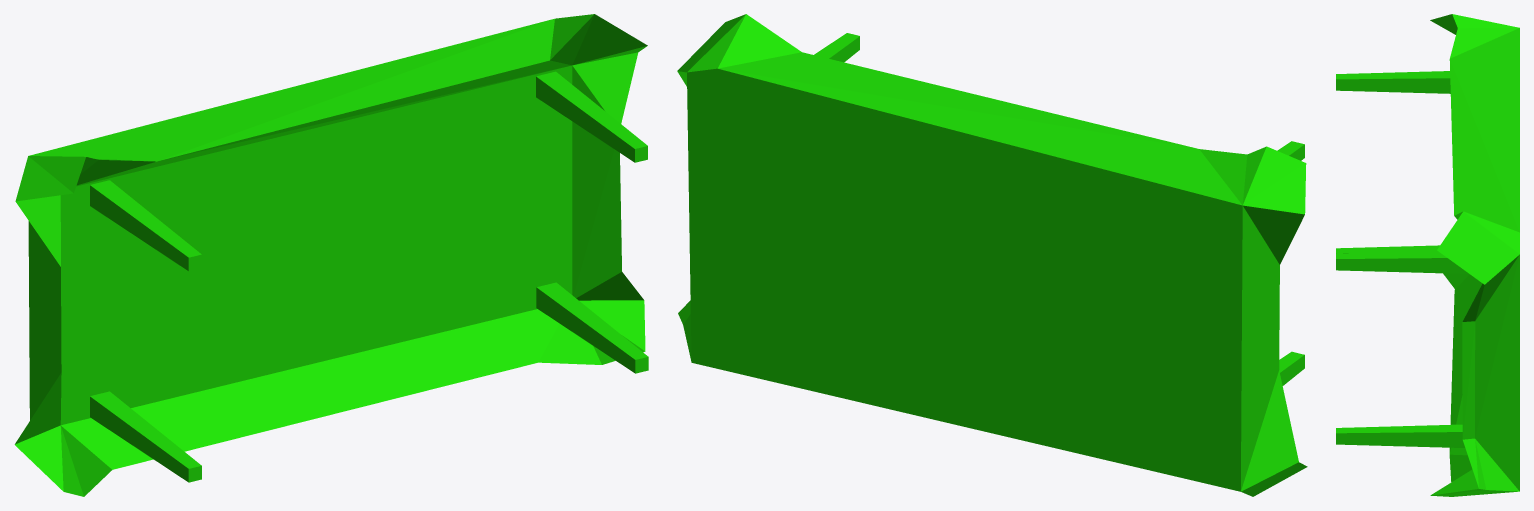
The model's file is SM_Table_01_Collider.fbx.
3 renders of one model, left to right at view 1: azimuth 30°, elevation 25°; view 2: azimuth 150°, elevation 25°; view 3: azimuth 270°, elevation 25°, orthographic. The views are drawn at different scales.
Visible parts, largest first — view 1: SM_Table_01_Collider; view 2: SM_Table_01_Collider; view 3: SM_Table_01_Collider.
Boxes of the visible parts, box(x1,y1,x2,y2) form: SM_Table_01_Collider: box(14, 14, 648, 496); SM_Table_01_Collider: box(677, 14, 1307, 496); SM_Table_01_Collider: box(1336, 14, 1519, 496).
Bounding box in the file's own units: 322 × 176 × 98.86.
